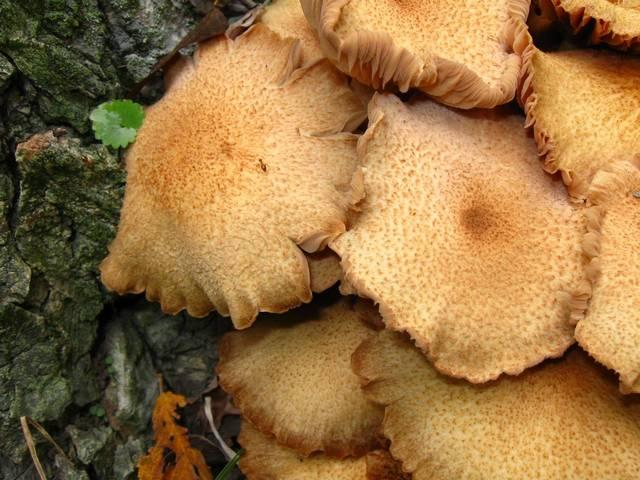edible_mushroom: (96, 0, 639, 479), (97, 2, 368, 329), (327, 89, 592, 385)
